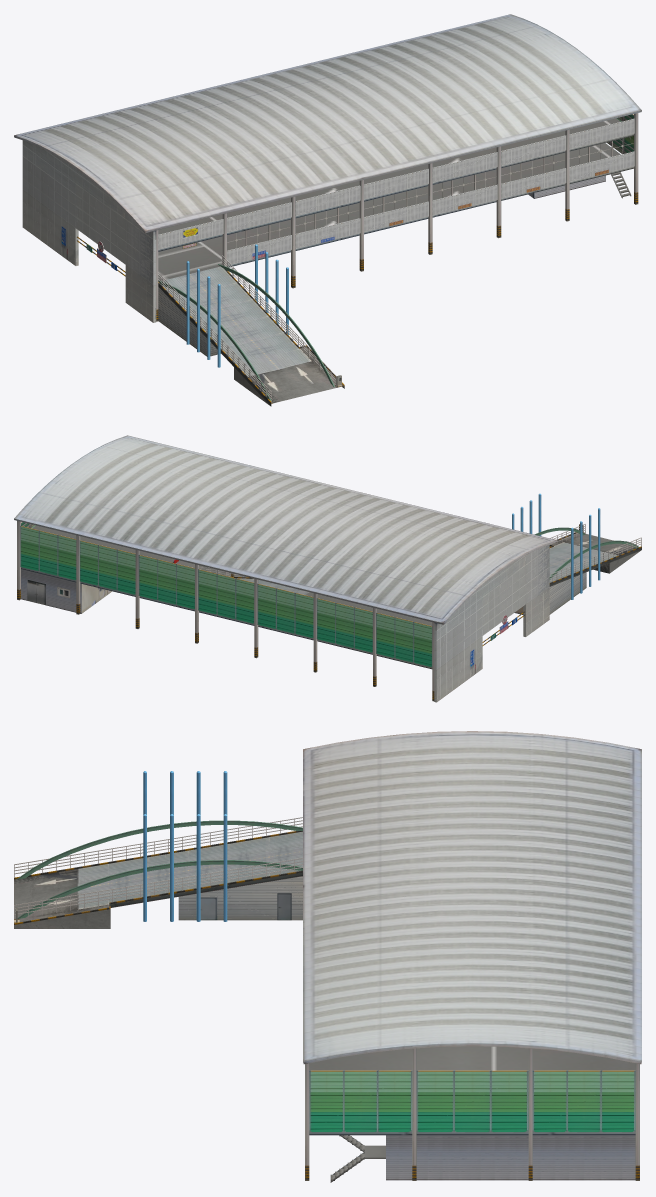
The picture shows the model from 3 angles, top to bottom: view 1: azimuth 30°, elevation 25°; view 2: azimuth 150°, elevation 25°; view 3: azimuth 270°, elevation 25°; orthographic projection. The views are drawn at different scales.
Visible parts, largest first — view 1: MainBuilding; view 2: MainBuilding; view 3: MainBuilding.
Part boxes in pixels (left/top/right/bottom): MainBuilding: left=14, top=14, right=641, bottom=406; MainBuilding: left=14, top=435, right=641, bottom=702; MainBuilding: left=14, top=731, right=641, bottom=1182.
Bounding box in the file's own units: 5.24 × 1.12 × 4.45.
1 material, 1 textured.
